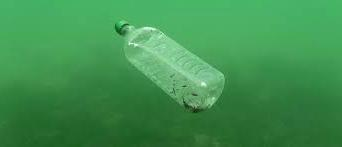Plastic: (94, 9, 231, 121)
